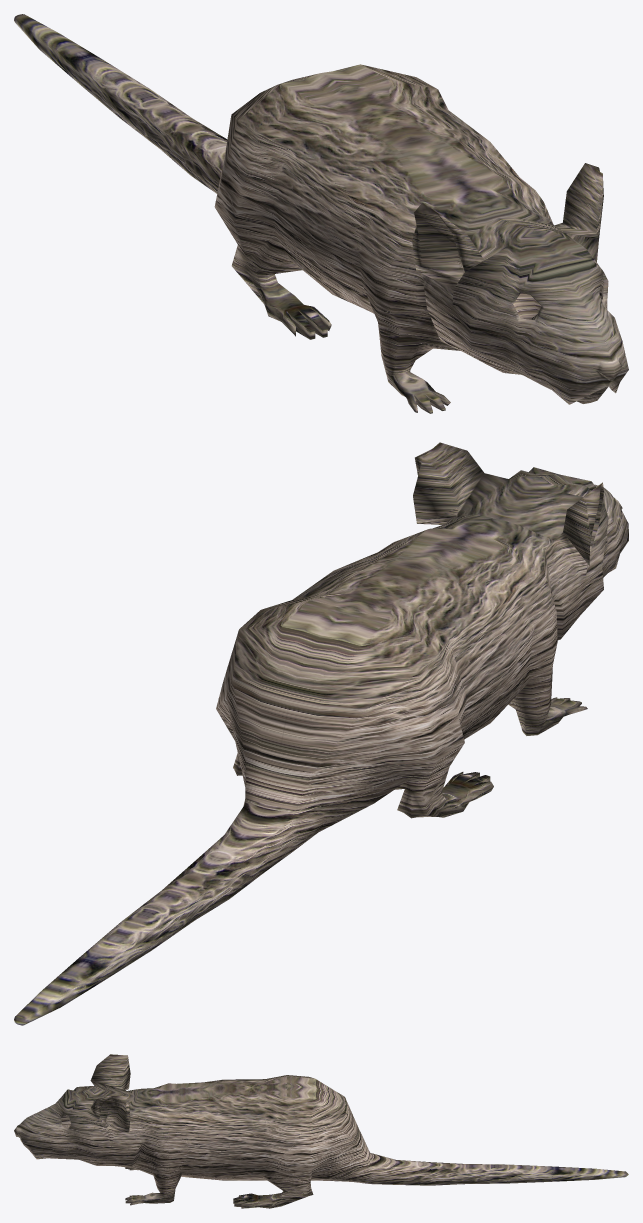
The model's file is rata.obj.
3 views of the same model, one above another, from view 1: azimuth 30°, elevation 25°; view 2: azimuth 150°, elevation 25°; view 3: azimuth 270°, elevation 25° (orthographic). The views are drawn at different scales.
Visible parts, largest first — view 1: rat_obj:Box002; view 2: rat_obj:Box002; view 3: rat_obj:Box002.
Boxes of the visible parts, left/top/right/bottom form: rat_obj:Box002: left=14, top=14, right=628, bottom=413; rat_obj:Box002: left=14, top=442, right=628, bottom=1025; rat_obj:Box002: left=14, top=1054, right=628, bottom=1208.
Bounding box in the file's own units: 0.054 × 0.0478 × 0.2436.
1 material, 1 textured.
